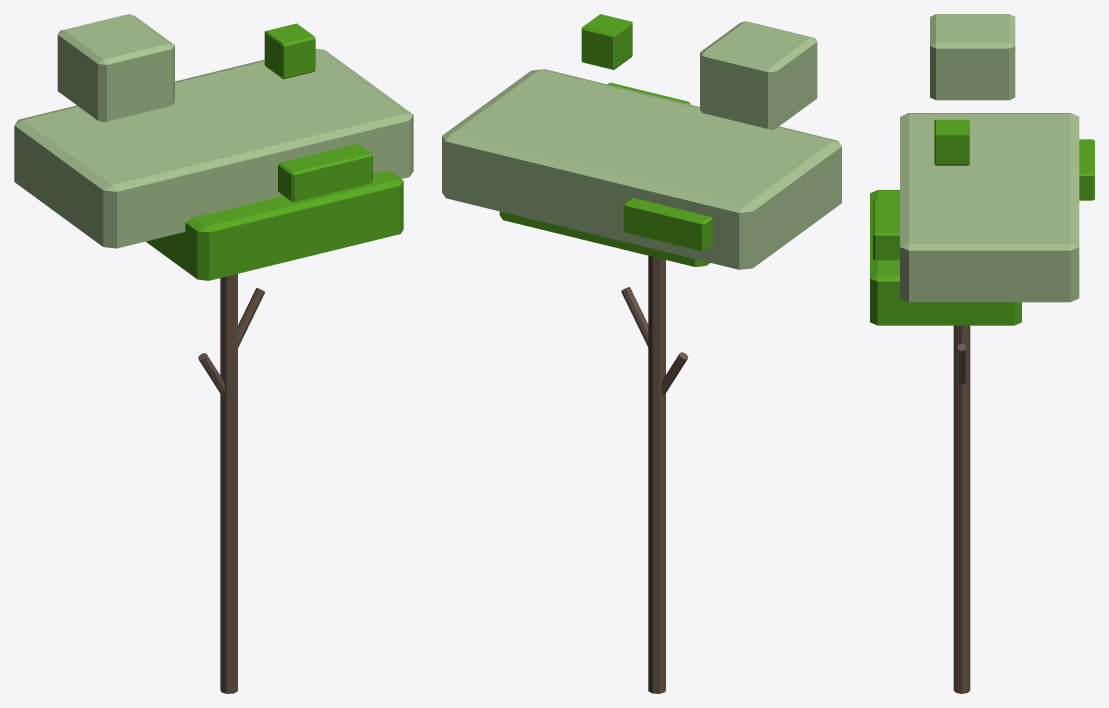
File: Isl_17_Tree_3.fbx
The picture shows the model from 3 angles, left to right: view 1: azimuth 30°, elevation 25°; view 2: azimuth 150°, elevation 25°; view 3: azimuth 270°, elevation 25°; orthographic projection. The views are drawn at different scales.
Visible parts, largest first — view 1: Isl_17_Tree_3; view 2: Isl_17_Tree_3; view 3: Isl_17_Tree_3.
Part boxes in pixels (left/top/right/bottom): Isl_17_Tree_3: left=14, top=14, right=413, bottom=693; Isl_17_Tree_3: left=442, top=14, right=841, bottom=693; Isl_17_Tree_3: left=870, top=14, right=1094, bottom=693.
Size of the model in its own units: 585 by 404 by 1217.
1 material, 1 textured.
